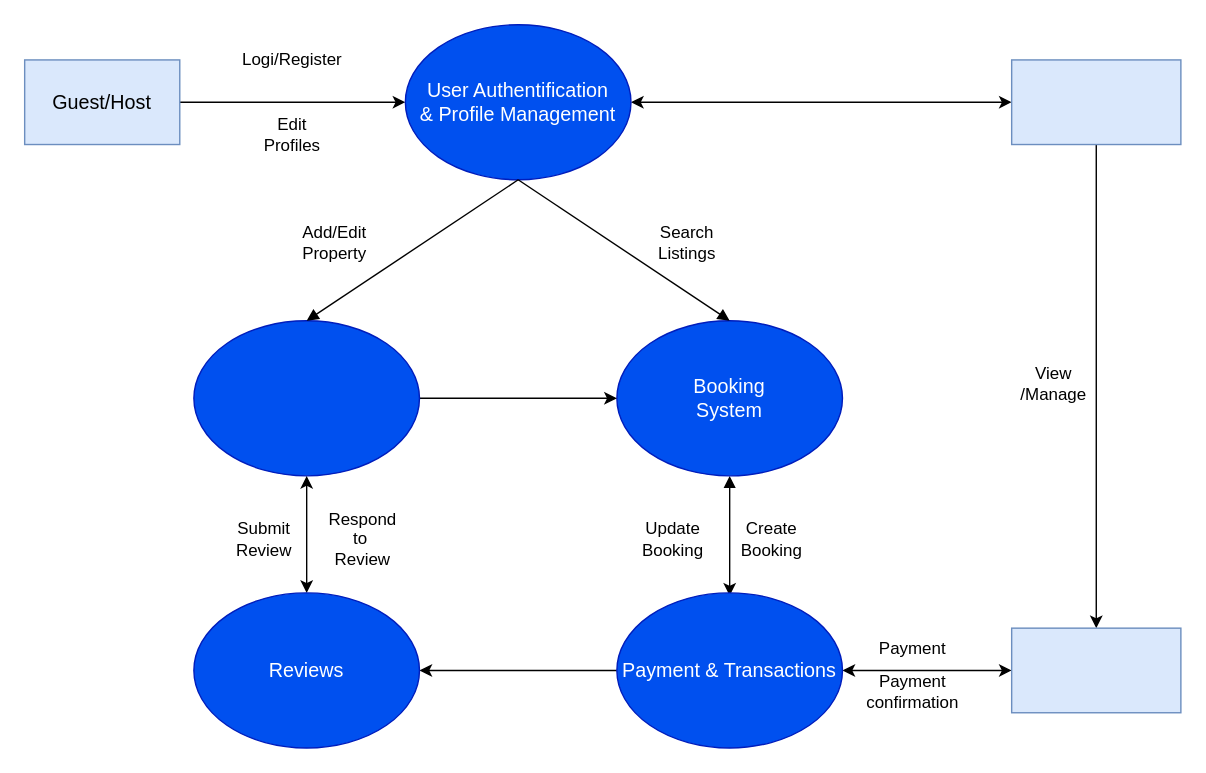
Some shapes in this 1206 by 773 pixel diagram are drawn without their labels. Each missing label, with the box of its shape:
Admin: (1010, 59, 1181, 145)
Payment Gateways: (1010, 627, 1181, 713)
Property Listings Manabement: (192, 319, 419, 476)
